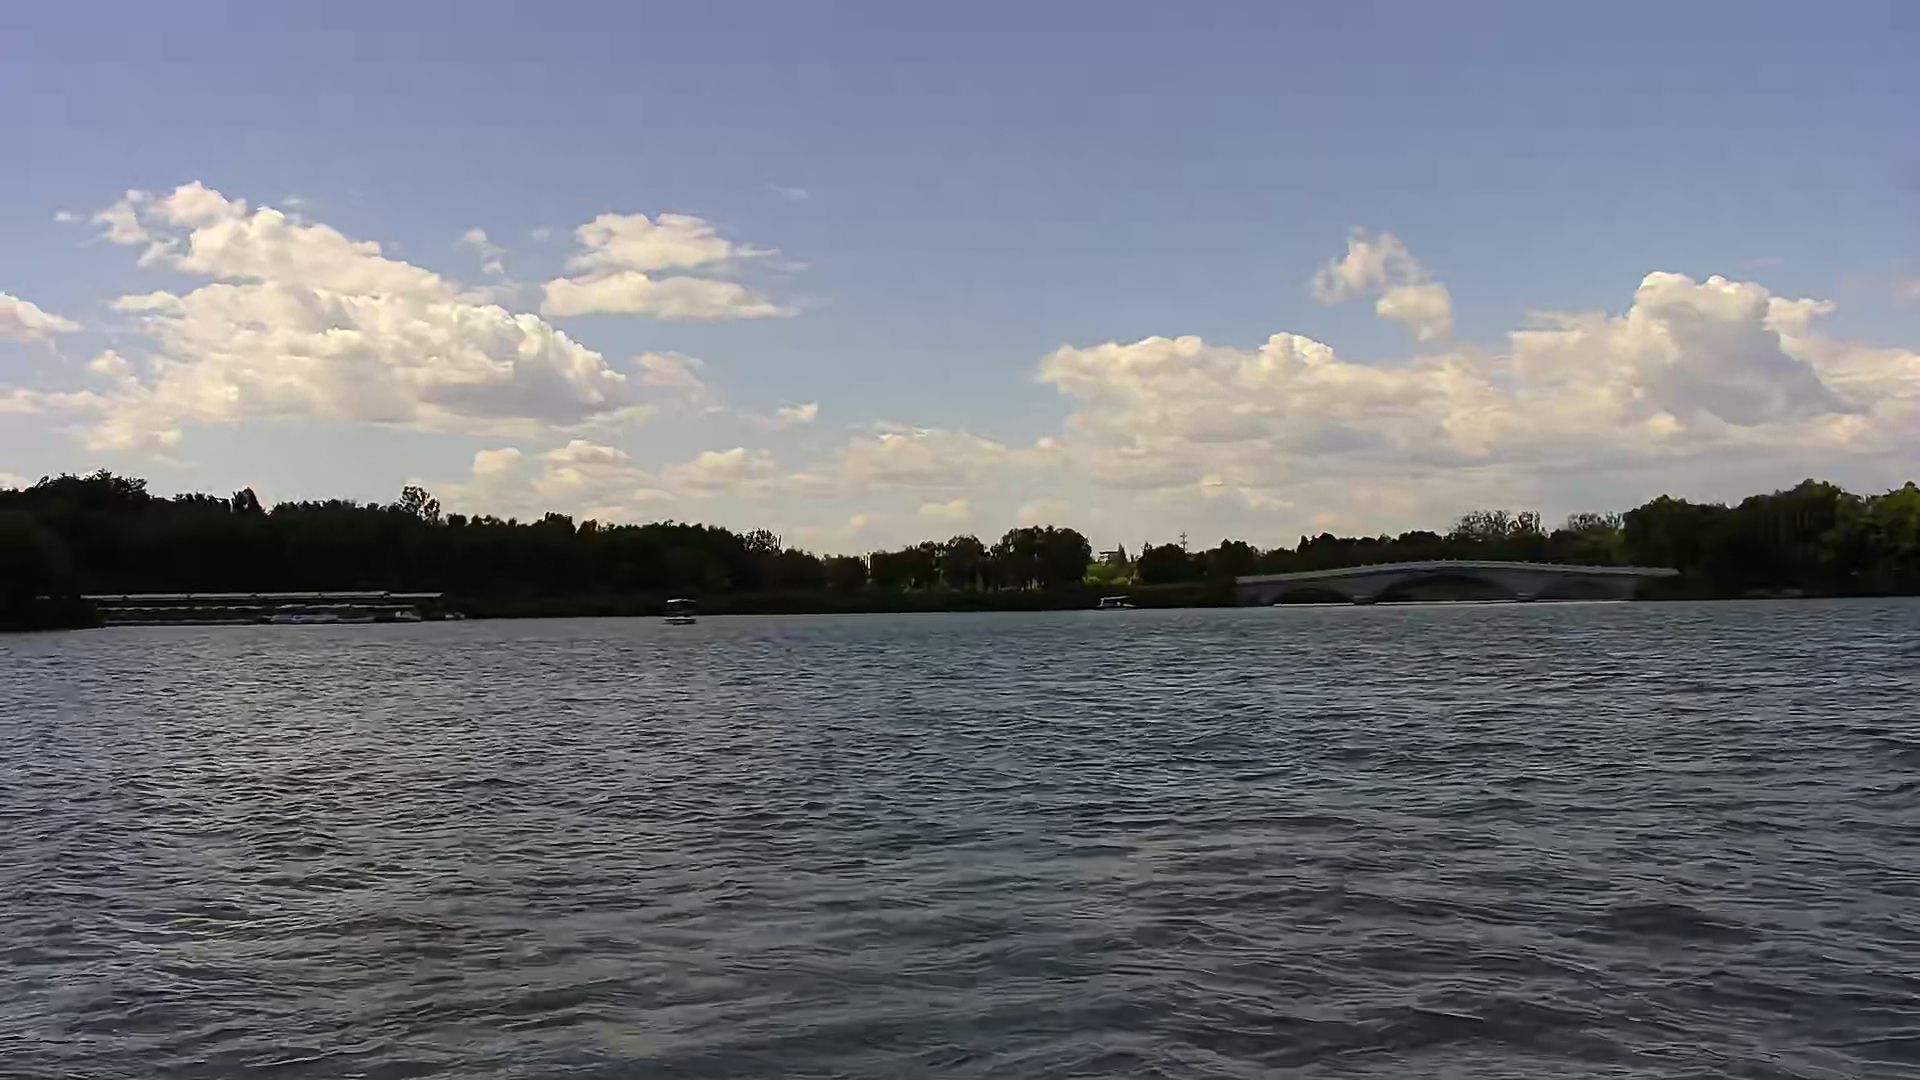boat: (655, 593, 705, 628), (1095, 592, 1139, 611)
bridge: (1226, 556, 1684, 604)
harbor: (76, 587, 469, 626)
